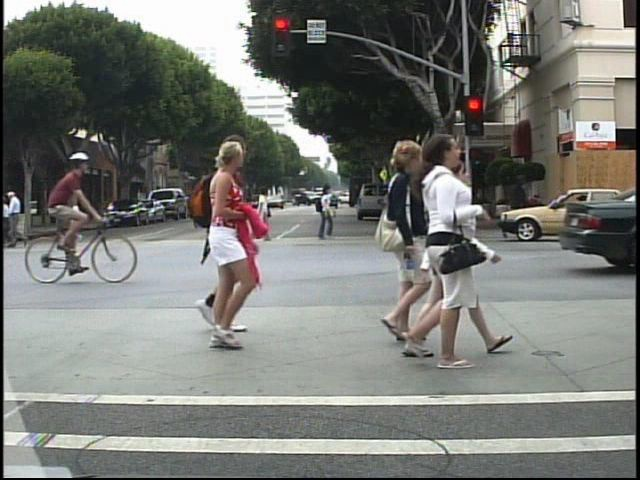person: (409, 136, 501, 376), (411, 159, 505, 362), (183, 139, 266, 349), (364, 139, 422, 347), (208, 144, 262, 341), (33, 148, 99, 277), (309, 183, 343, 245), (416, 177, 445, 239), (8, 187, 28, 251), (379, 187, 395, 223)
